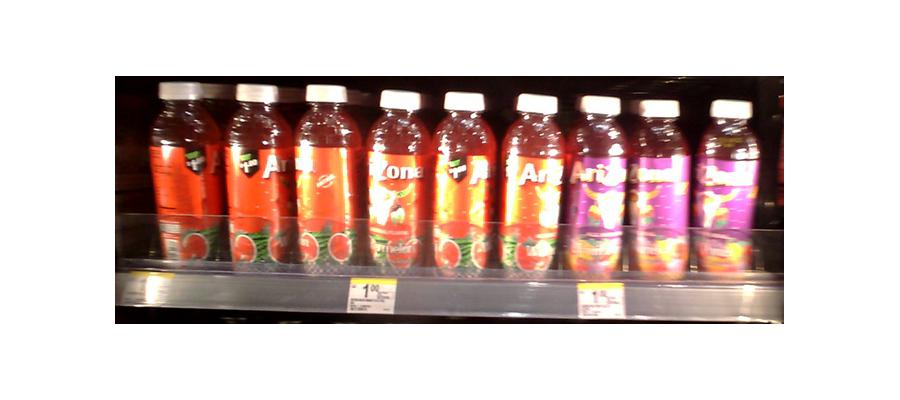bottle: (149, 76, 221, 268), (223, 80, 291, 269), (292, 84, 360, 272), (364, 85, 428, 276), (499, 91, 563, 281), (697, 96, 761, 281), (431, 89, 495, 273), (567, 93, 625, 280), (631, 95, 689, 280)
